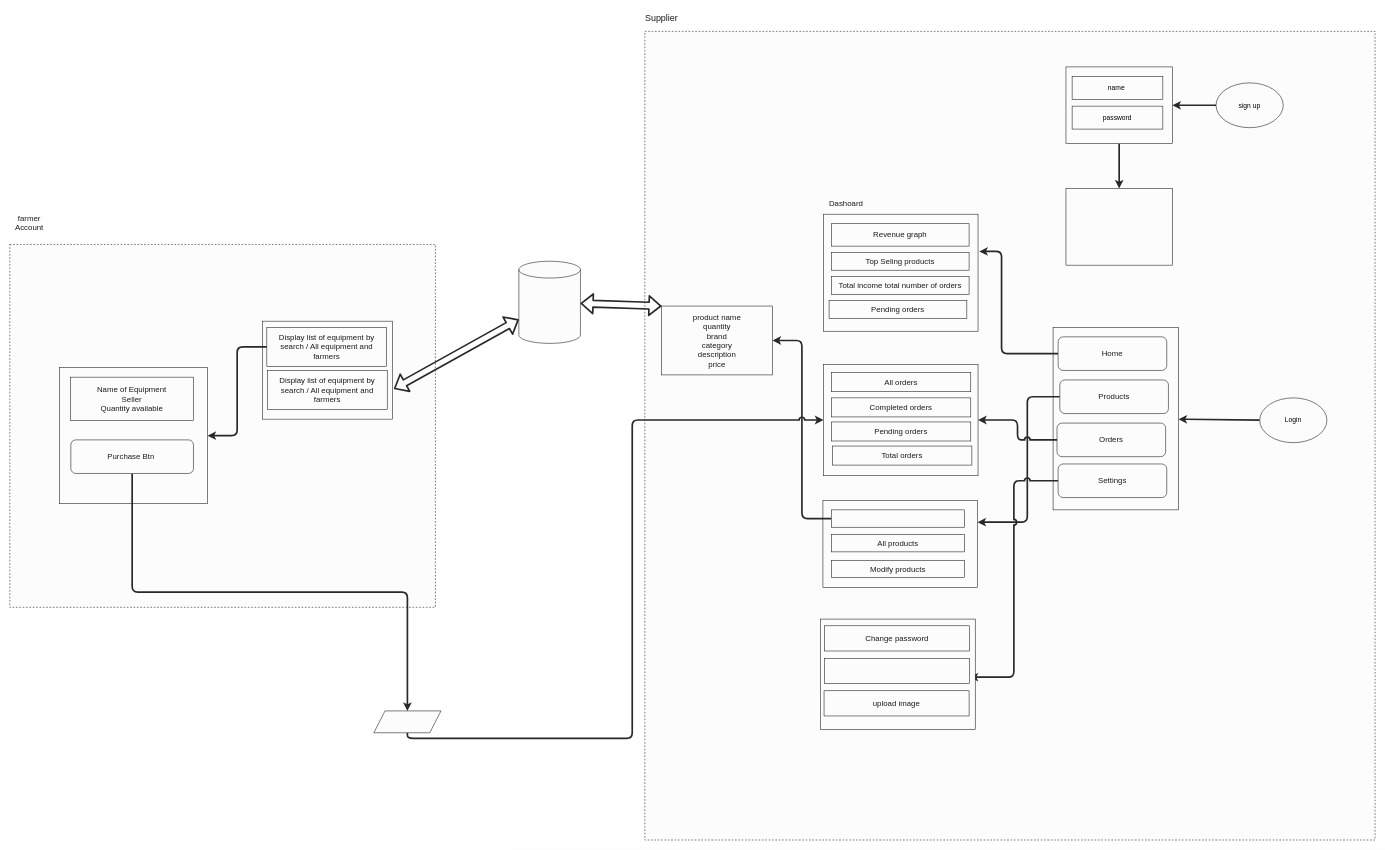
The diagram is 1385 pixels wide and 850 high, and some of its shapes have lost their labels. Each missing label, with the box of its shape:
email questoinnare: (1065, 188, 1172, 265)
Stripe function: (373, 710, 441, 733)
upload products: (831, 509, 965, 527)
upload/edit image: (824, 658, 970, 683)
